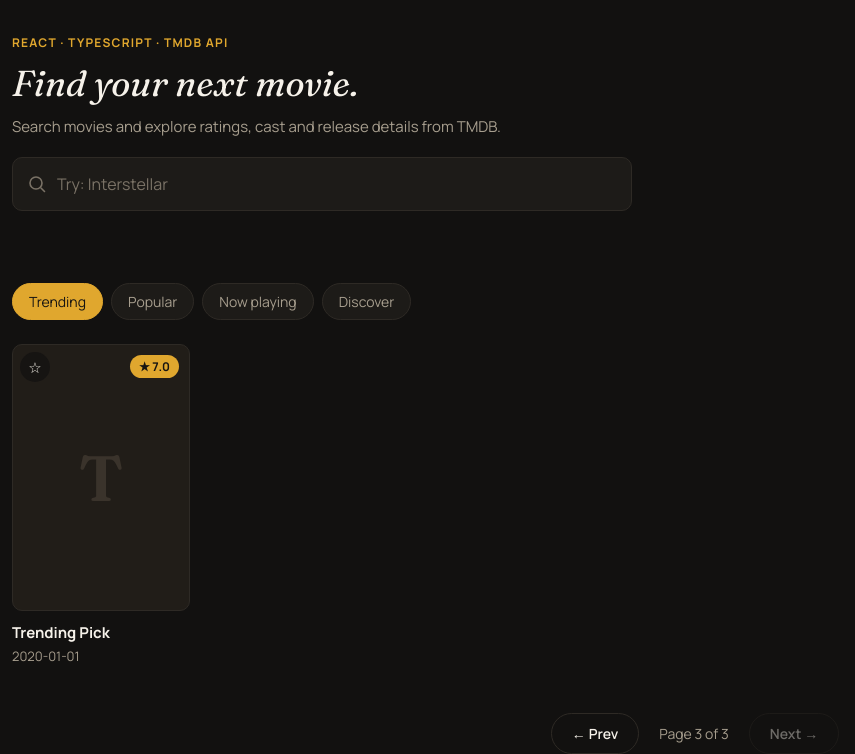
it: Home browse mode › pushes the selected tab to the URL and resets the page
Click the button "Popular": coordinates (153, 302) 111,283 -> 194,320
(page scrolled)
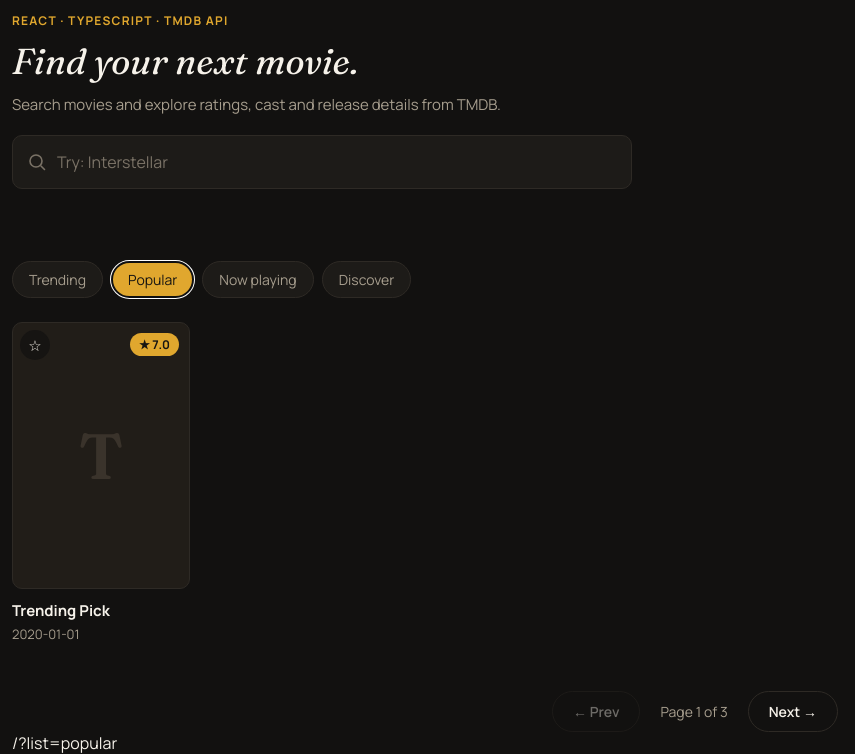
Check: the text with test id "location" reads "/?list=popular", box 12,732 -> 117,753
